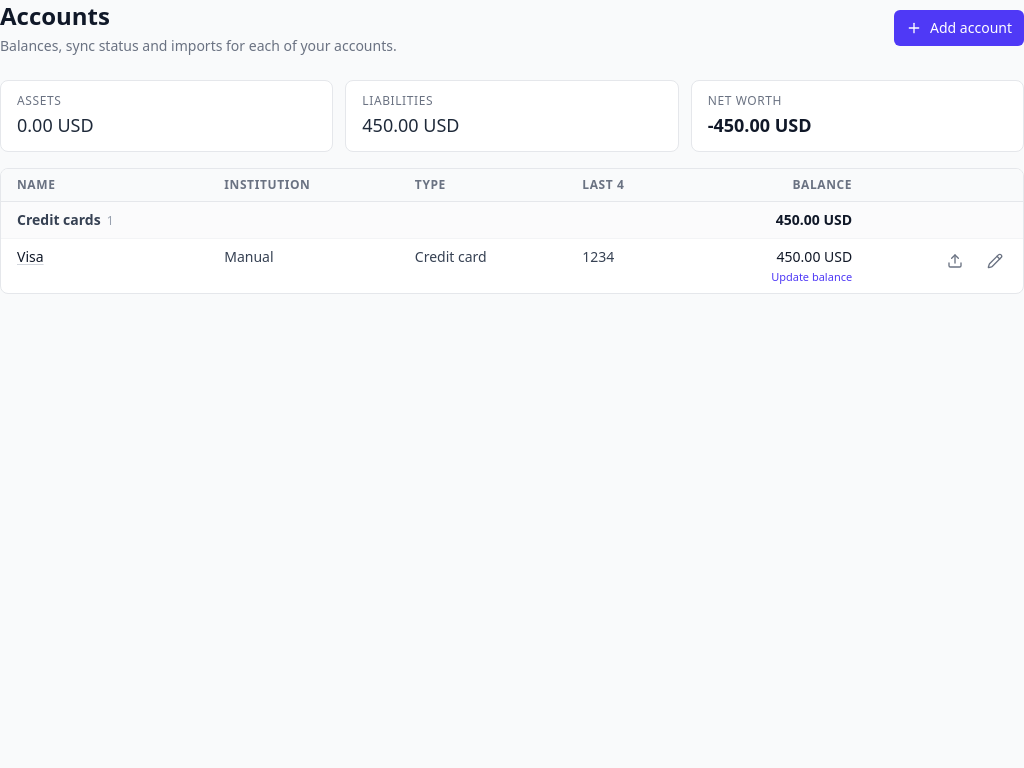
Test: Update balance (#504) › takes a credit card balance as the amount owed and stores it negative
Click the button with aria-label "Update balance for Visa".
click(777, 277)  # box x1=702 y1=269 x2=852 y2=285
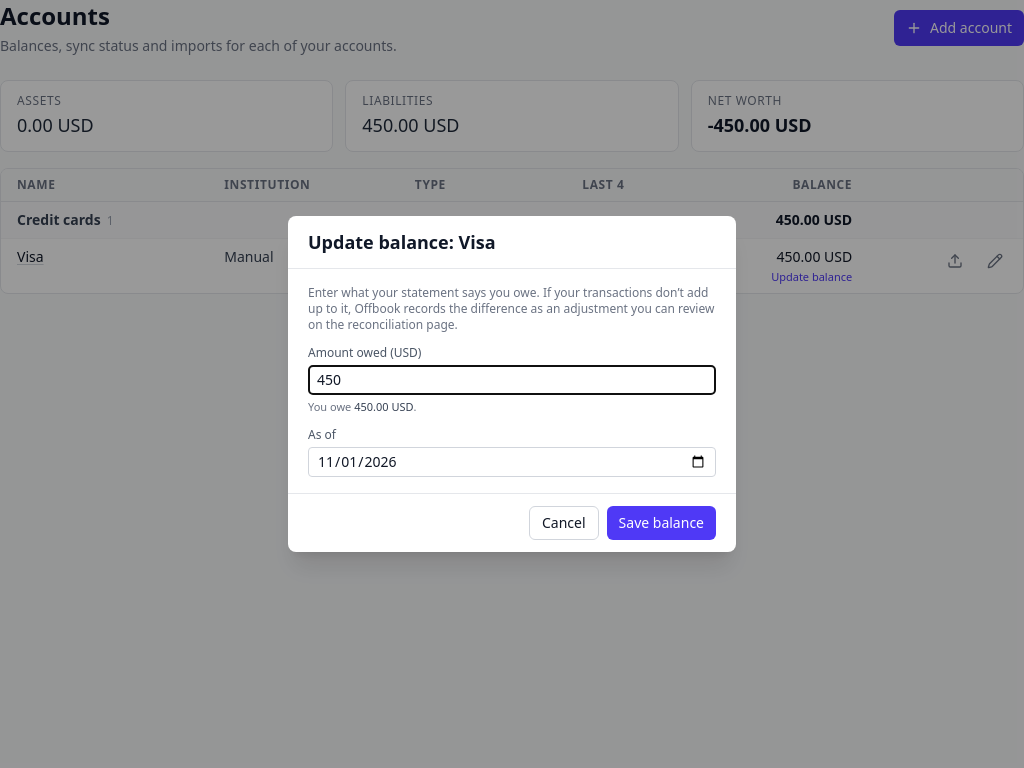
Check: the field labelled "Amount owed (USD)" holds "450"
Check: the text "You owe 450.00 USD." is shown, box x1=308 y1=399 x2=416 y2=414
Replace the text in the field labelled "Amount owed (USD)" with "512.30" at point(512, 380), box x1=308 y1=365 x2=716 y2=395
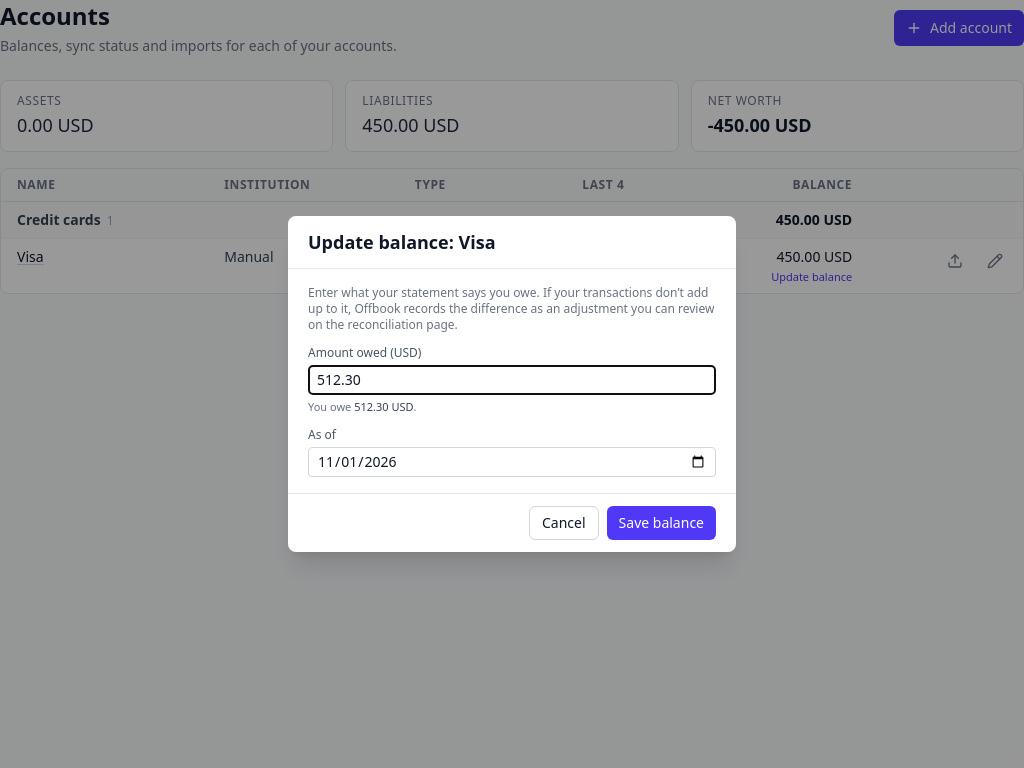
Check: the text "You owe 512.30 USD." is shown, box x1=308 y1=399 x2=416 y2=414
Click the button "Save balance".
click(661, 523)  # box x1=607 y1=506 x2=716 y2=540
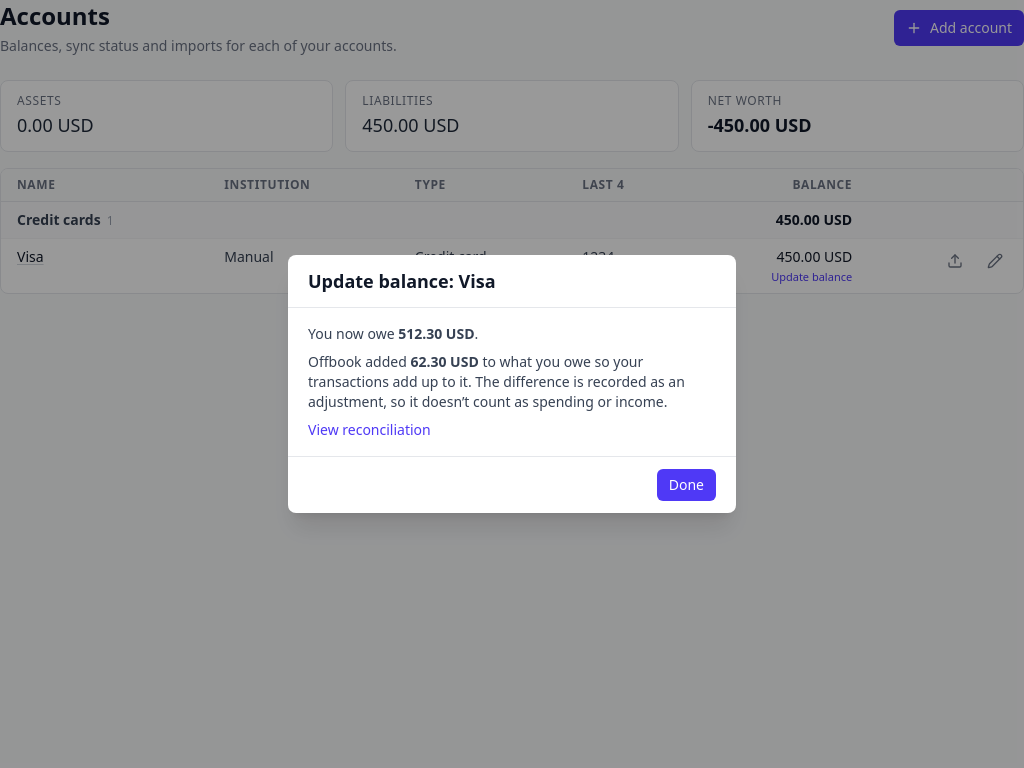
Check: the message shows "You now owe 512.30 USD.", box x1=308 y1=324 x2=685 y2=439
